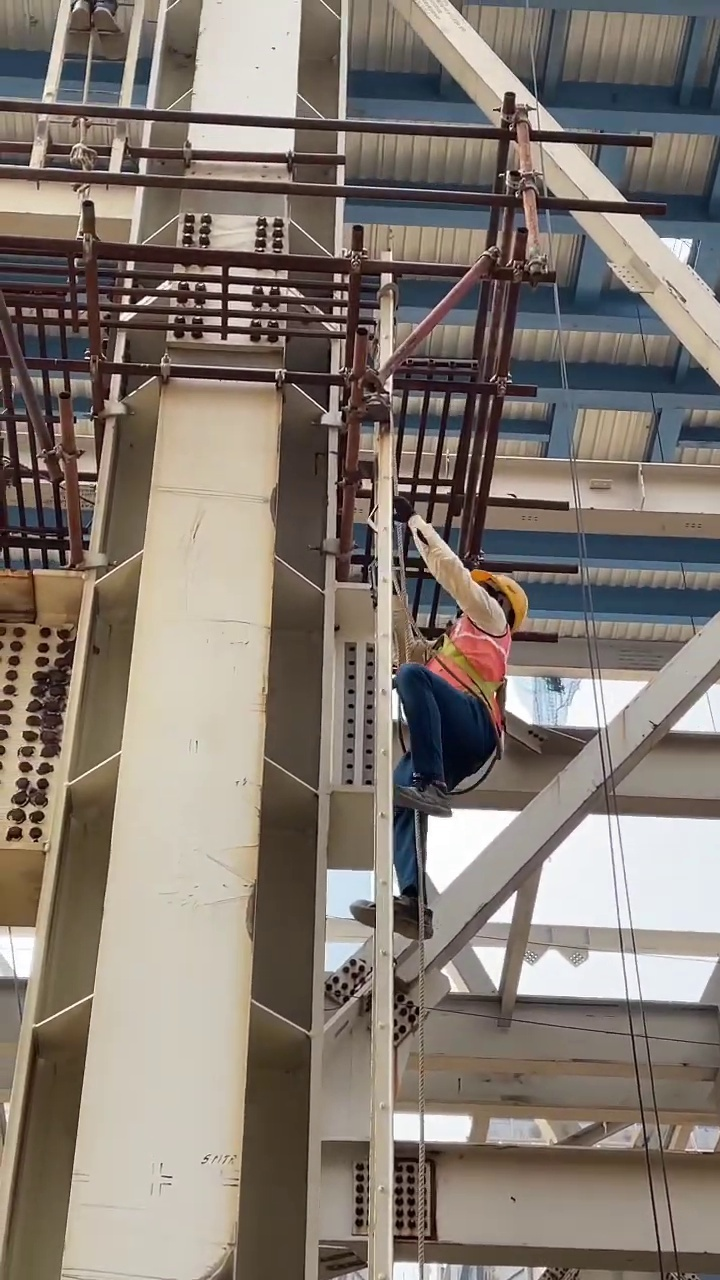Helmet: (472, 566, 528, 623)
Person: (346, 562, 530, 938)
Safety_Harness: (410, 616, 513, 754)
Safety_shoes: (348, 891, 433, 940), (389, 777, 453, 816)
